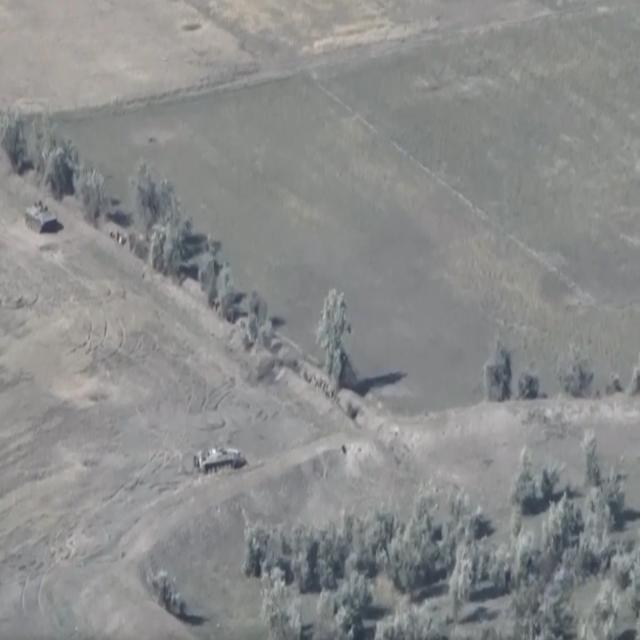AIFV: (195, 441, 243, 486), (24, 198, 60, 238)
